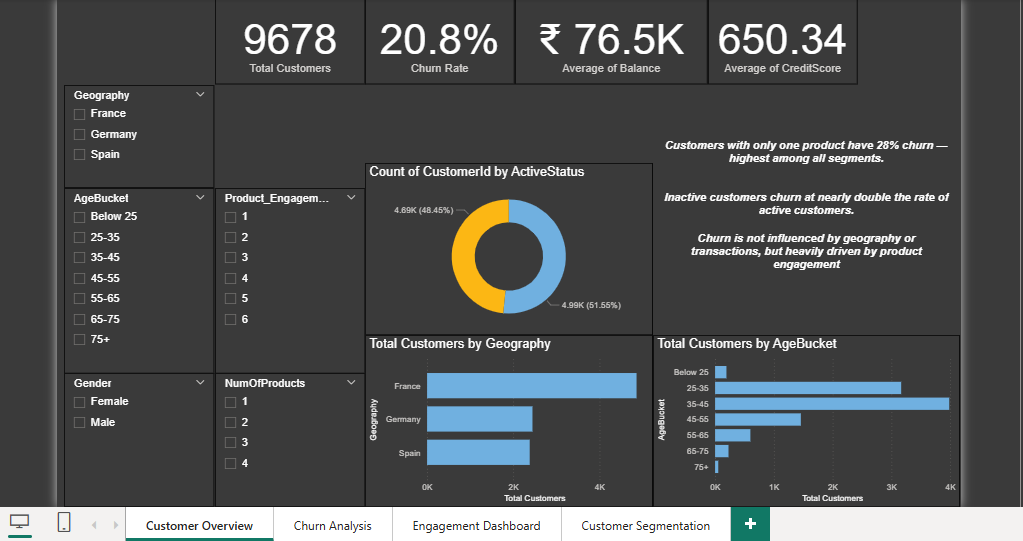

This screenshot's page, from the dashboard's own definition file:
{"tool":"powerbi","page":{"name":"Customer Overview","canvas":[1280,720],"ordinal":0},"visuals":[{"type":"card","fields":{"Values":["Customers_Cleaned.Total Customers"]},"box":[223.6,0,213.3,121.3],"z":1000},{"type":"card","fields":{"Values":["Customers_Cleaned.Churn Rate"]},"box":[436.9,0,211.9,121.3],"z":2000},{"type":"card","fields":{"Values":["Avg(Customers_Cleaned.CreditScore)"]},"box":[922,0,211.9,121.3],"z":3000},{"type":"card","fields":{"Values":["Avg(Customers_Cleaned.Balance)"]},"box":[648.8,0,273.2,121.3],"z":4000},{"type":"barChart","fields":{"Y":["Customers_Cleaned.Total Customers"],"Category":["Customers_Cleaned.Geography"]},"box":[436.9,476.3,407.7,244],"z":5000},{"type":"barChart","fields":{"Y":["Customers_Cleaned.Total Customers"],"Category":["Customers_Cleaned.AgeBucket"]},"box":[844.6,476.3,435.4,244],"z":6000},{"type":"donutChart","fields":{"Category":["Customers_Cleaned.ActiveStatus"],"Y":["CountNonNull(Customers_Cleaned.CustomerId)"]},"box":[436.9,232.3,407.7,244],"z":7000},{"type":"slicer","fields":{"Values":["Customers_Cleaned.Geography"]},"box":[10.2,121.3,213.3,146.1],"z":8000},{"type":"slicer","fields":{"Values":["Customers_Cleaned.AgeBucket"]},"box":[10.2,267.4,213.3,263],"z":8001},{"type":"slicer","fields":{"Values":["Customers_Cleaned.Gender"]},"box":[10.2,530.4,213.3,190],"z":8002},{"type":"slicer","fields":{"Values":["Customers_Cleaned.NumOfProducts"]},"box":[223.6,530.4,213.3,190],"z":8003},{"type":"slicer","fields":{"Values":["Customers_Cleaned.Product_Engagement_Score"]},"box":[223.6,267.4,213.3,263],"z":8004},{"type":"textbox","box":[854.8,194.3,415,51.1],"z":8005},{"type":"textbox","box":[854.8,267.4,415,49.7],"z":8006},{"type":"textbox","box":[854.8,325.8,415,73.1],"z":8007}]}

Visuals, with their boxes on the page's 1280x720 design canvas (x1, y1, x2, y2). These are canvas units, not pixel positions in the 1023x541 screenshot, which may show the page scaled, cropped or inside an application window:
card - Customers_Cleaned.Total Customers: x1=224, y1=0, x2=437, y2=121
card - Customers_Cleaned.Churn Rate: x1=437, y1=0, x2=649, y2=121
card - Avg(Customers_Cleaned.CreditScore): x1=922, y1=0, x2=1134, y2=121
card - Avg(Customers_Cleaned.Balance): x1=649, y1=0, x2=922, y2=121
barChart - Customers_Cleaned.Total Customers x Customers_Cleaned.Geography: x1=437, y1=476, x2=845, y2=720
barChart - Customers_Cleaned.Total Customers x Customers_Cleaned.AgeBucket: x1=845, y1=476, x2=1280, y2=720
donutChart - Customers_Cleaned.ActiveStatus x CountNonNull(Customers_Cleaned.CustomerId): x1=437, y1=232, x2=845, y2=476
slicer - Customers_Cleaned.Geography: x1=10, y1=121, x2=224, y2=267
slicer - Customers_Cleaned.AgeBucket: x1=10, y1=267, x2=224, y2=530
slicer - Customers_Cleaned.Gender: x1=10, y1=530, x2=224, y2=720
slicer - Customers_Cleaned.NumOfProducts: x1=224, y1=530, x2=437, y2=720
slicer - Customers_Cleaned.Product_Engagement_Score: x1=224, y1=267, x2=437, y2=530
textbox: x1=855, y1=194, x2=1270, y2=245
textbox: x1=855, y1=267, x2=1270, y2=317
textbox: x1=855, y1=326, x2=1270, y2=399
